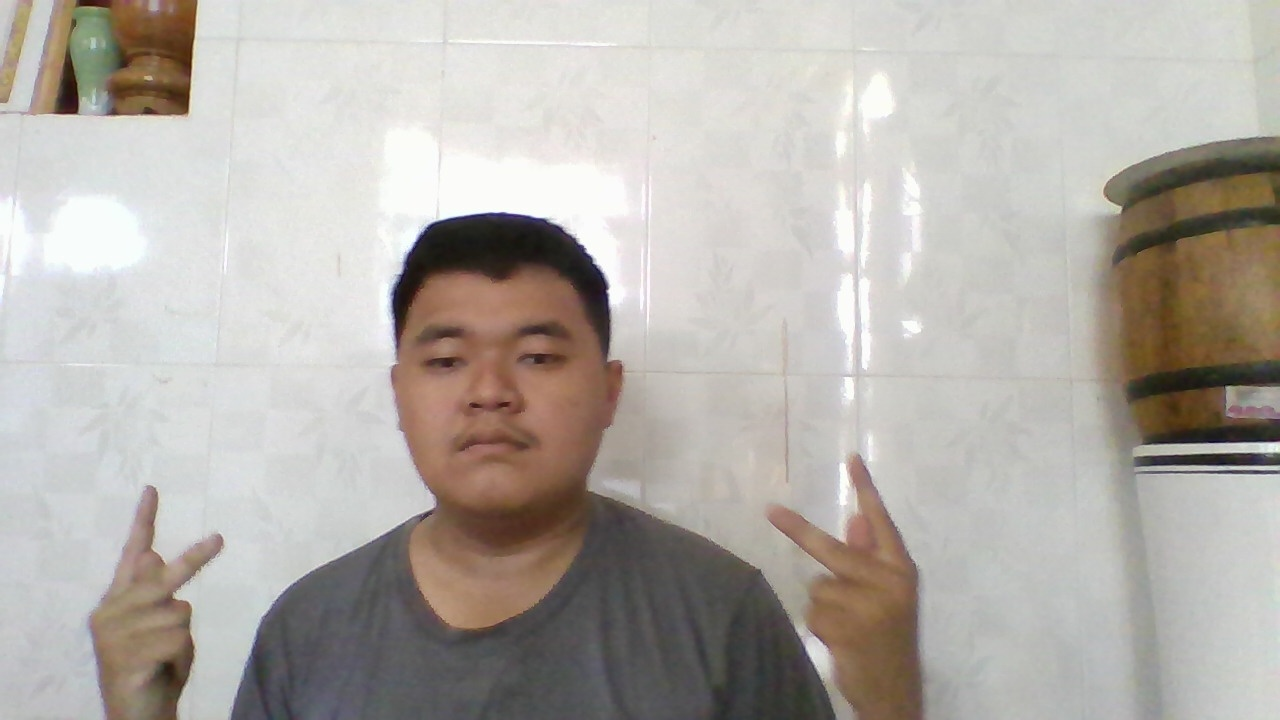K: (757, 445, 927, 717), (85, 479, 237, 719)
